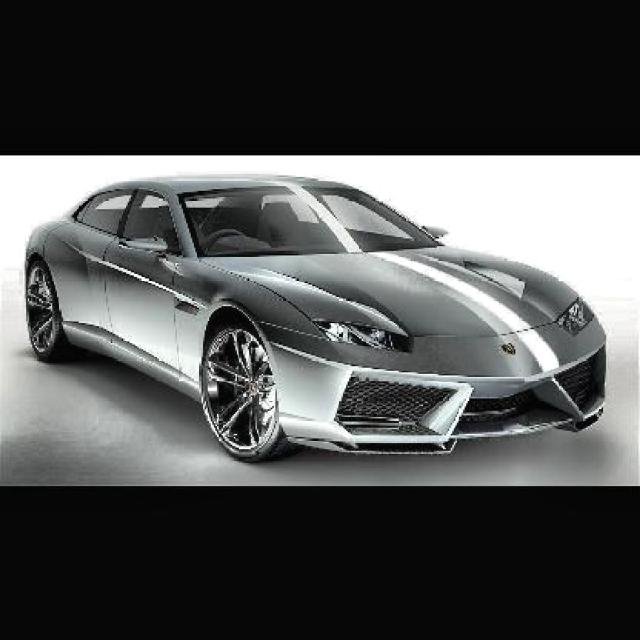silver: (26, 179, 608, 474)
